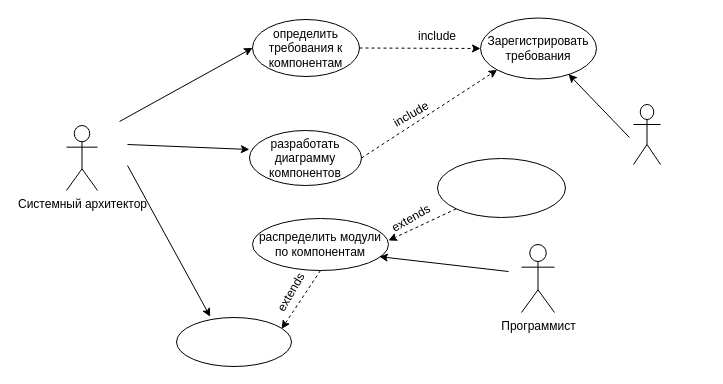
Image size: 723x384. Some labels were removed from this diagram. Each missing label, with the box of its shape:
проверить соответствие требованиям: (176, 316, 292, 366)
прочитать диаграмму компонентов: (436, 158, 566, 218)
Системный аналитик: (632, 104, 660, 164)
